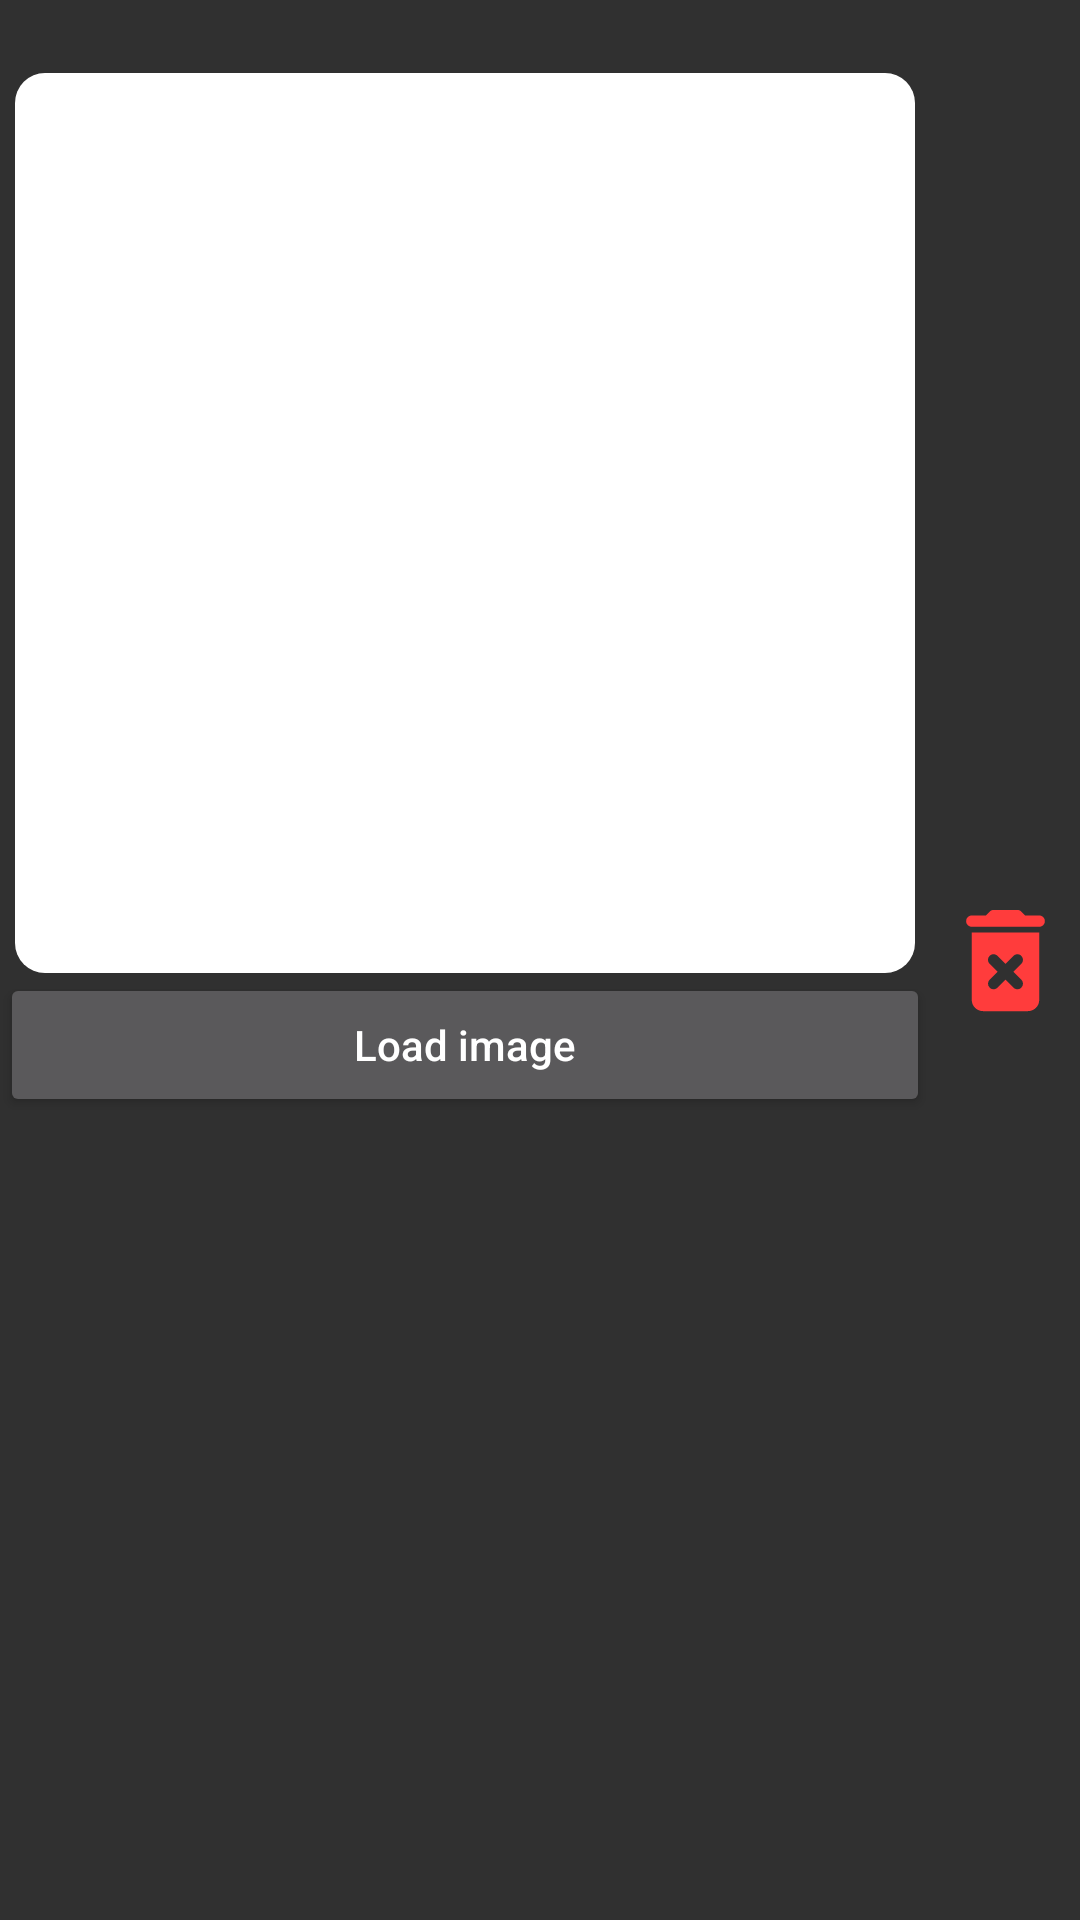

Icon bounding boxes for this 1080*1920 phone screenshot, format (x1, y1, x2, y2):
delete: (966, 910, 1045, 1012)
